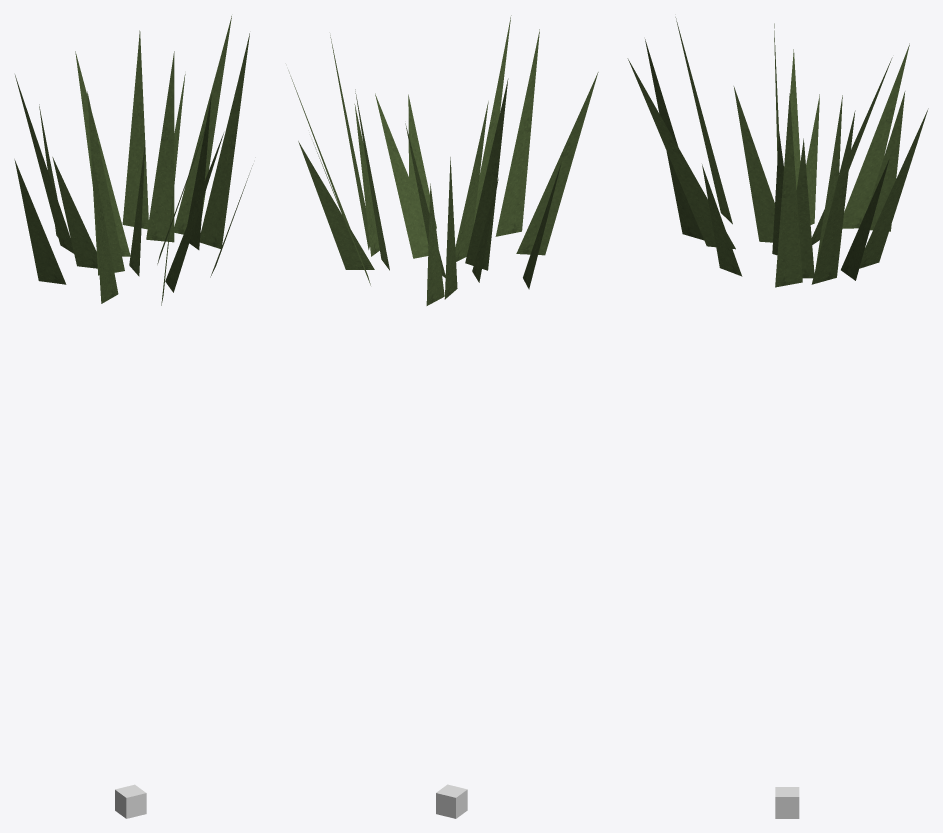
File: grass_tuft.glb
3 renders of one model, left to right at view 1: azimuth 30°, elevation 25°; view 2: azimuth 150°, elevation 25°; view 3: azimuth 270°, elevation 25°, orthographic. The views are drawn at different scales.
Parts seen in each view (by area): view 1: grass_tuft, COL_HULL_NONE; view 2: grass_tuft, COL_HULL_NONE; view 3: grass_tuft, COL_HULL_NONE.
Boxes of the visible parts, x1,y1,x2,y2 form: grass_tuft: [14, 16, 252, 305]; COL_HULL_NONE: [115, 784, 146, 818]; grass_tuft: [288, 15, 598, 305]; COL_HULL_NONE: [436, 784, 467, 818]; grass_tuft: [627, 17, 928, 287]; COL_HULL_NONE: [775, 787, 799, 818].
Size of the model in its own units: 0.4928 by 1.43 by 0.4994.
1 material, 1 textured.
